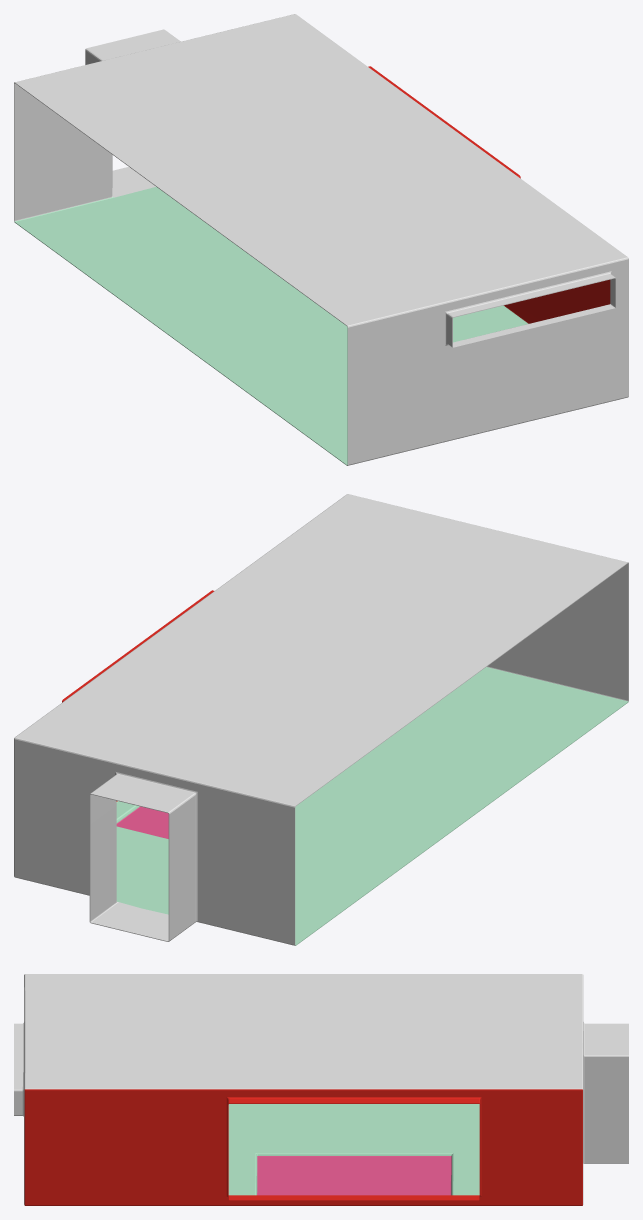
File: Environment_Low 2.fbx
The picture shows the model from 3 angles, top to bottom: view 1: azimuth 30°, elevation 25°; view 2: azimuth 150°, elevation 25°; view 3: azimuth 270°, elevation 25°; orthographic projection. The views are drawn at different scales.
Parts seen in each view (by area): view 1: Cube.002; view 2: Cube.002; view 3: Cube.002.
Part boxes in pixels (x1,y1,x2,y2): Cube.002: (14,14,628,465); Cube.002: (14,494,628,945); Cube.002: (14,974,628,1205).
Bounding box in the file's own units: 440 × 204 × 950.
